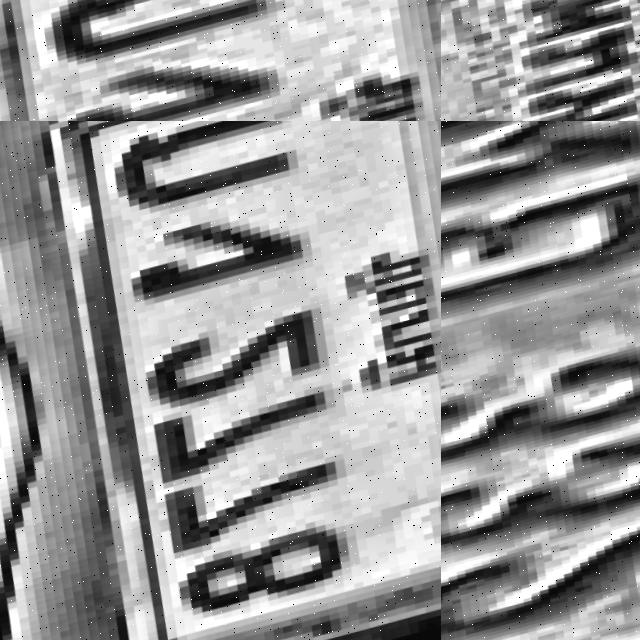license-plate: (2, 121, 441, 640), (441, 121, 640, 640), (0, 0, 441, 121), (441, 0, 640, 121)
